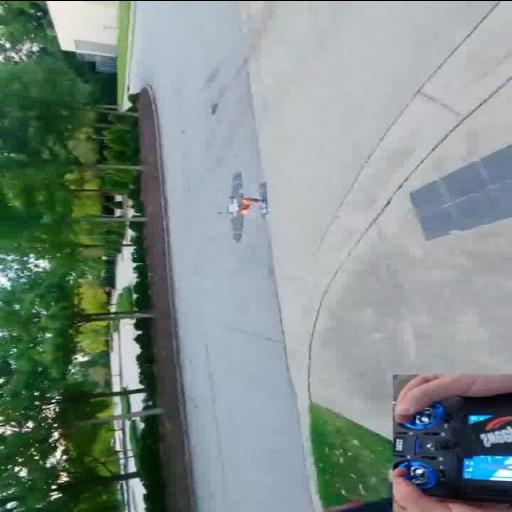uav: (204, 164, 282, 246)
